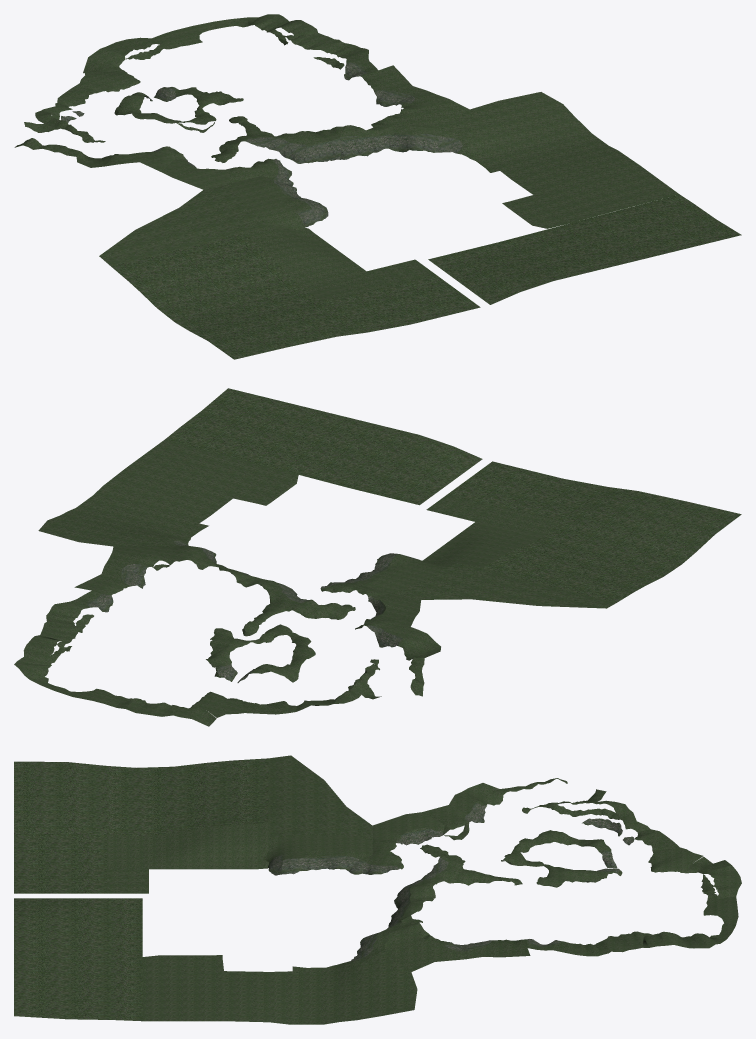
The model's file is Mis_Training_clifftops.fbx.
3 views of the same model, one above another, from view 1: azimuth 30°, elevation 25°; view 2: azimuth 150°, elevation 25°; view 3: azimuth 270°, elevation 25° (orthographic). The views are drawn at different scales.
Parts seen in each view (by area): view 1: Object48, Object43, Object49, Mesh43, Object50, Object51, F_terain_vrch13, F_terain_vrch25, F_terain_vrch28, Object42, F_terain_vrch11, F_terain_vrch05 (+12 smaller); view 2: Object49, Object48, Object43, Mesh43, Object51, Object50, F_terain_vrch25, F_terain_vrch16, F_terain_vrch30, F_terain_vrch28, F_terain_vrch11, F_terain_vrch05 (+11 smaller); view 3: Object48, Object43, Object49, Mesh43, Object50, Object51, F_terain_vrch25, Object42, F_terain_vrch11, F_terain_vrch16, F_terain_vrch28, Object46 (+16 smaller).
Part boxes in pixels (x1,y1,x2,y2): Object48: (111,232,366,359); Object43: (439,92,678,228); Object49: (428,194,741,304); Mesh43: (99,176,304,266); Object50: (244,227,386,300); Object51: (322,274,480,332); F_terain_vrch13: (340,123,439,159); F_terain_vrch25: (385,90,469,128); F_terain_vrch28: (360,65,425,106); Object42: (262,176,328,227); F_terain_vrch11: (162,158,230,189); F_terain_vrch05: (222,131,307,163); Object49: (165,388,482,505); Object48: (483,487,741,602); Object43: (38,439,298,546); Mesh43: (362,559,616,608); Object51: (447,461,607,520); Object50: (422,507,561,567); F_terain_vrch25: (104,546,193,576); F_terain_vrch16: (376,627,440,660); F_terain_vrch30: (46,590,113,624); F_terain_vrch28: (74,566,145,595); F_terain_vrch11: (368,593,421,619); F_terain_vrch05: (259,582,318,618); Object48: (14,758,268,836); Object43: (142,950,417,1024); Object49: (14,898,142,1021); Mesh43: (264,755,372,864); Object50: (107,823,268,869); Object51: (14,833,106,893); F_terain_vrch25: (384,922,465,971); Object42: (268,849,371,875); F_terain_vrch11: (372,812,444,845); F_terain_vrch16: (449,783,506,822); F_terain_vrch28: (460,939,530,959); Object46: (107,869,148,893).
Size of the model in its own units: 27719 by 1266 by 33327.
